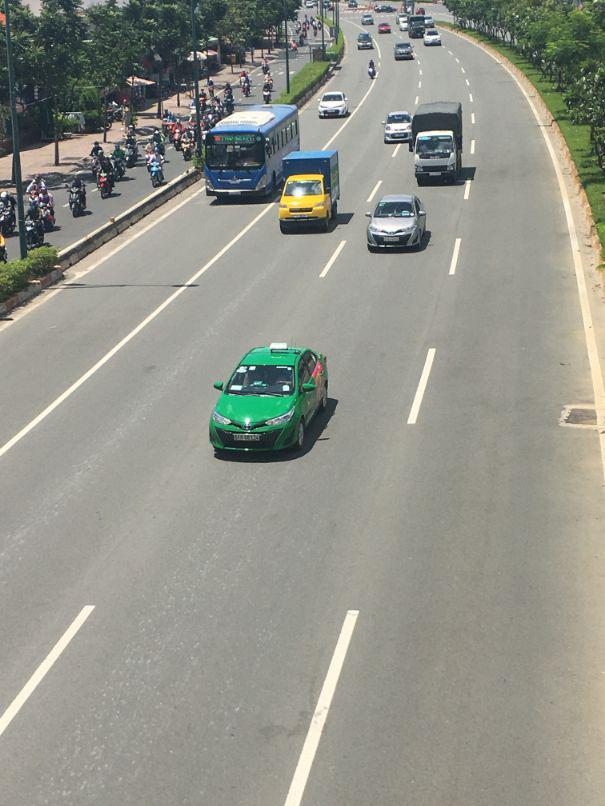bus: (204, 103, 302, 205)
car: (210, 341, 330, 460), (367, 194, 433, 253), (384, 110, 412, 144), (318, 92, 351, 120), (393, 41, 415, 62), (422, 30, 440, 47), (356, 33, 372, 51), (377, 23, 392, 35), (361, 15, 374, 27)
motorbike: (99, 170, 117, 197), (149, 159, 165, 184)
truck: (278, 149, 338, 231), (412, 100, 462, 187), (409, 17, 426, 38)
